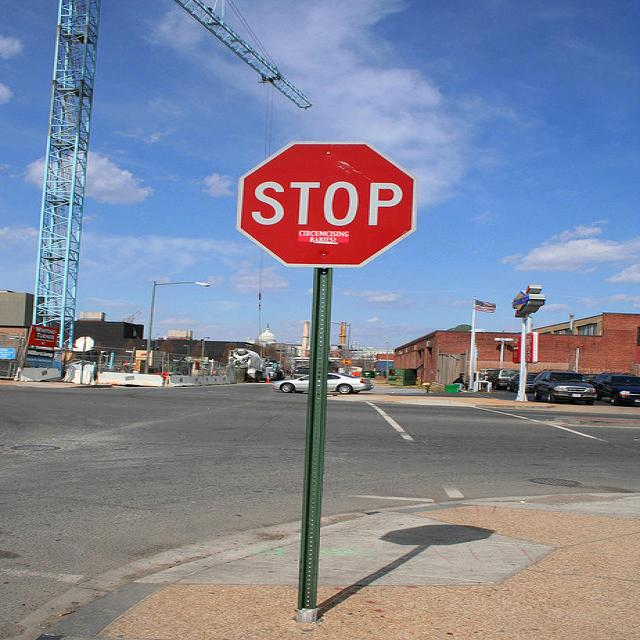Vehicle: (532, 369, 598, 406), (272, 372, 374, 394), (588, 375, 640, 406), (232, 348, 272, 383), (508, 372, 540, 393), (492, 370, 520, 390), (292, 368, 309, 380), (584, 374, 598, 383), (363, 370, 377, 378)
